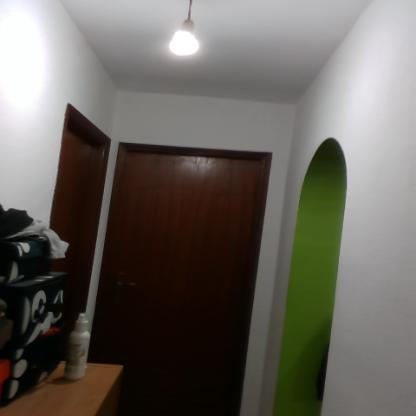closed: (99, 131, 286, 405)
